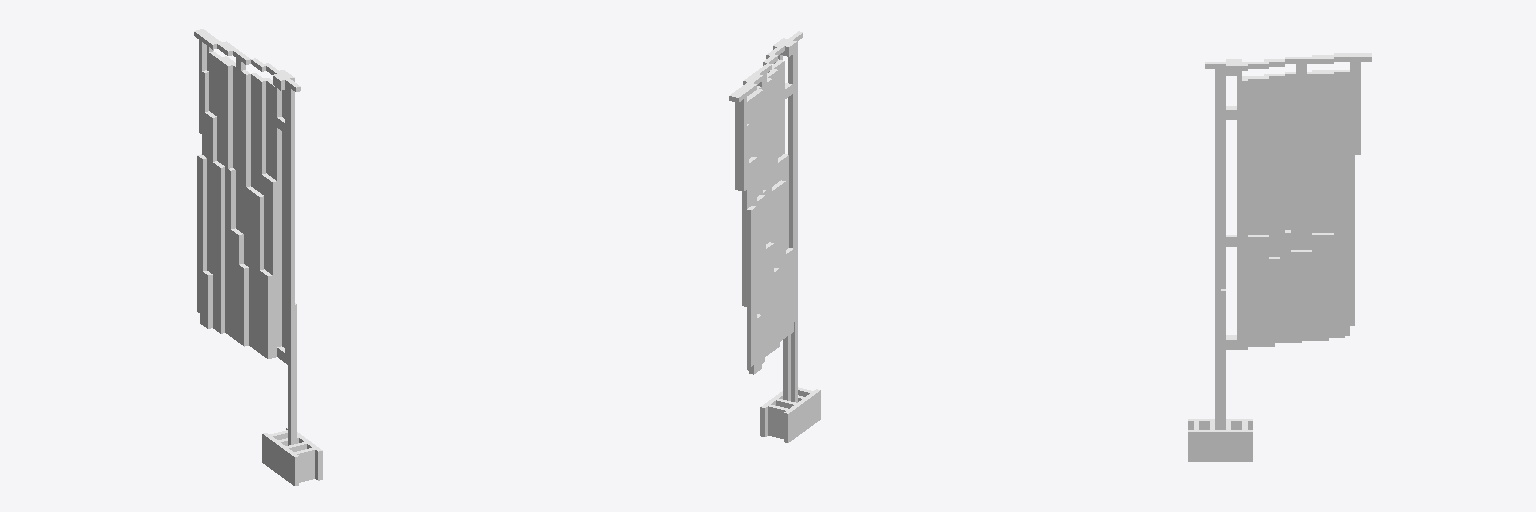
Rendered from hata.obj.
3 views of the same model, side by side, from view 1: azimuth 30°, elevation 25°; view 2: azimuth 150°, elevation 25°; view 3: azimuth 270°, elevation 25° (orthographic).
Visible parts, largest first — view 1: object 1; view 2: object 1; view 3: object 1.
Part boxes in pixels (bbox=[...]): object 1: bbox=[194, 29, 322, 485]; object 1: bbox=[729, 31, 820, 442]; object 1: bbox=[1188, 53, 1371, 461].
Size of the model in its own units: 0.9 by 8 by 3.4.